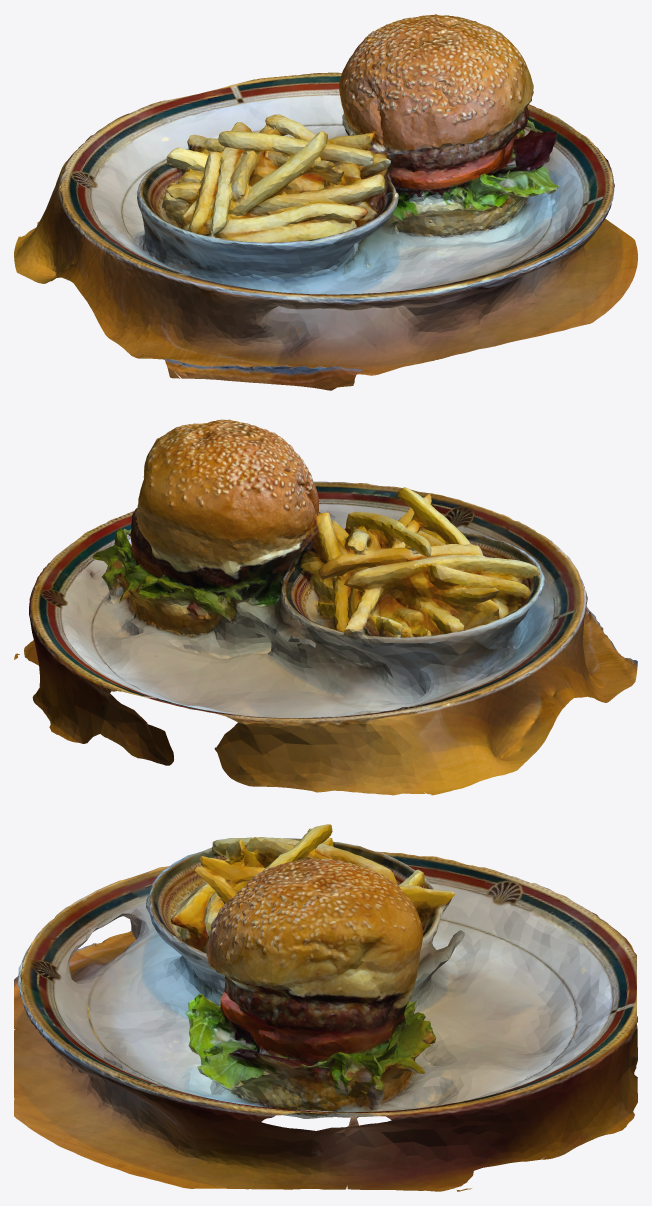
Rendered from burga.glb.
The picture shows the model from 3 angles, top to bottom: view 1: azimuth 30°, elevation 25°; view 2: azimuth 150°, elevation 25°; view 3: azimuth 270°, elevation 25°; orthographic projection. The views are drawn at different scales.
Visible parts, largest first — view 1: Mesh_0; view 2: Mesh_0; view 3: Mesh_0.
Boxes of the visible parts, x1,y1,x2,y2 form: Mesh_0: (14, 14, 637, 390); Mesh_0: (14, 419, 637, 795); Mesh_0: (14, 824, 637, 1191).
Bounding box in the file's own units: 0.3257 × 0.1337 × 0.31.
1 material, 1 textured.
